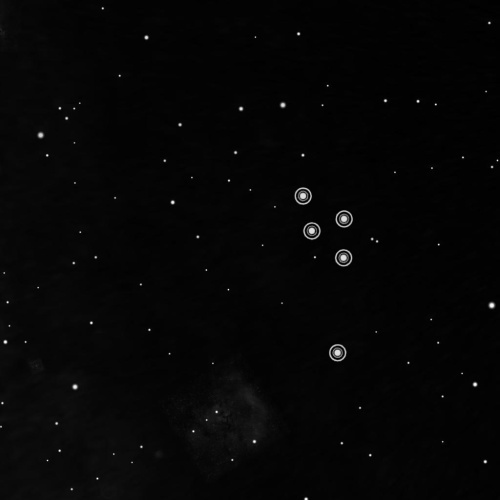delphinus: (290, 180, 356, 365)
